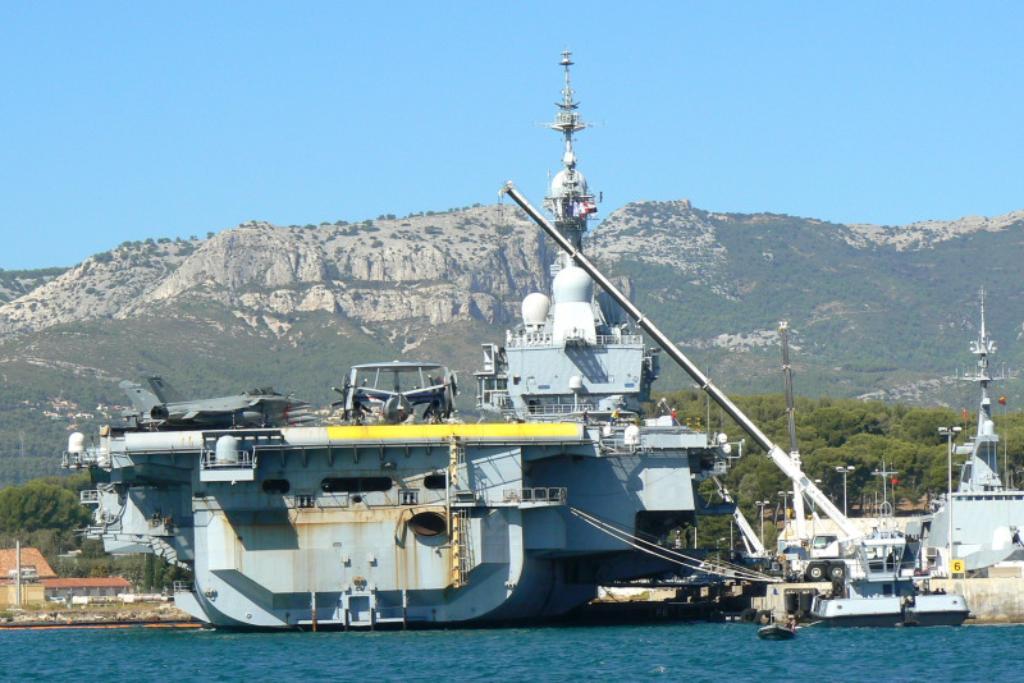Warship: (53, 36, 751, 642)
